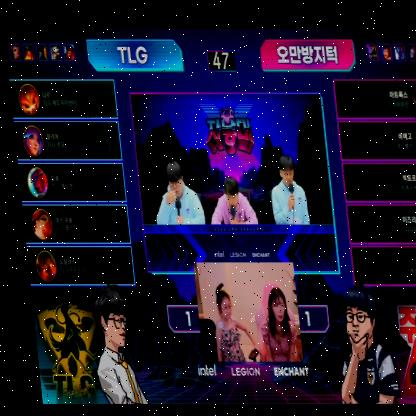streamer: (200, 281, 253, 361), (249, 284, 291, 360)
